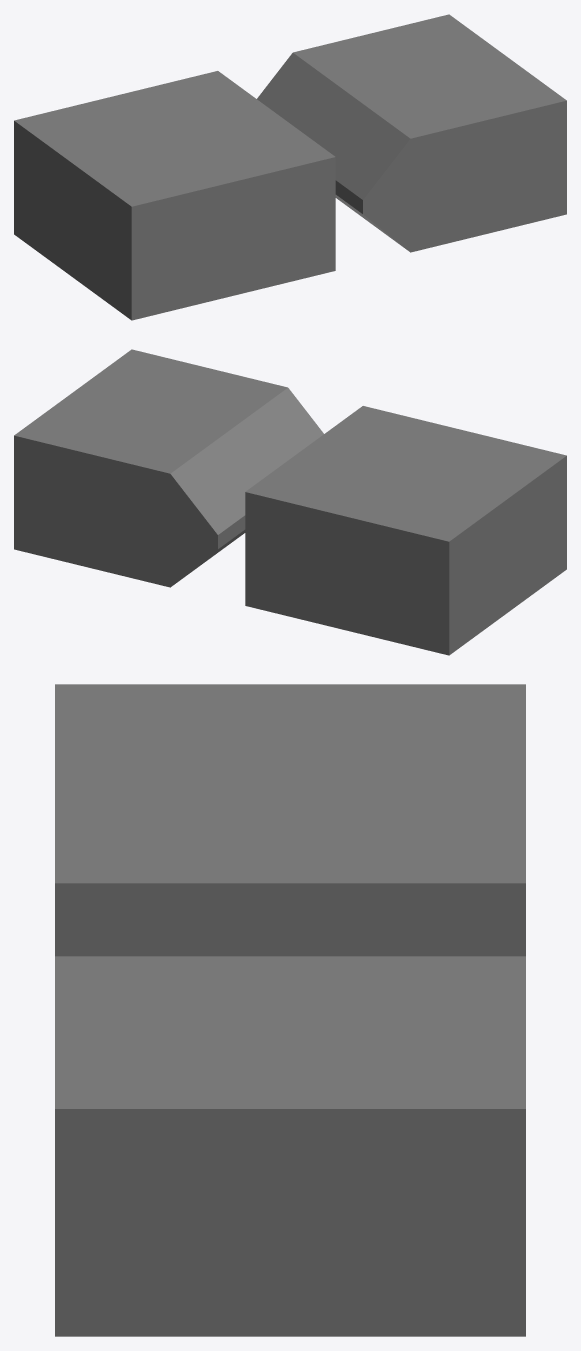
Rendered from С15_Кромки.glb.
The picture shows the model from 3 angles, top to bottom: view 1: azimuth 30°, elevation 25°; view 2: azimuth 150°, elevation 25°; view 3: azimuth 270°, elevation 25°; orthographic projection. The views are drawn at different scales.
Visible parts, largest first — view 1: node_id3; view 2: node_id3; view 3: node_id3.
Boxes of the visible parts, <box> form: node_id3: <box>14,14,566,320</box>; node_id3: <box>14,349,566,655</box>; node_id3: <box>55,684,525,1336</box>.
Bounding box in the file's own units: 0.512 × 0.128 × 0.24.
Materials: 1 (1 with a texture image).
